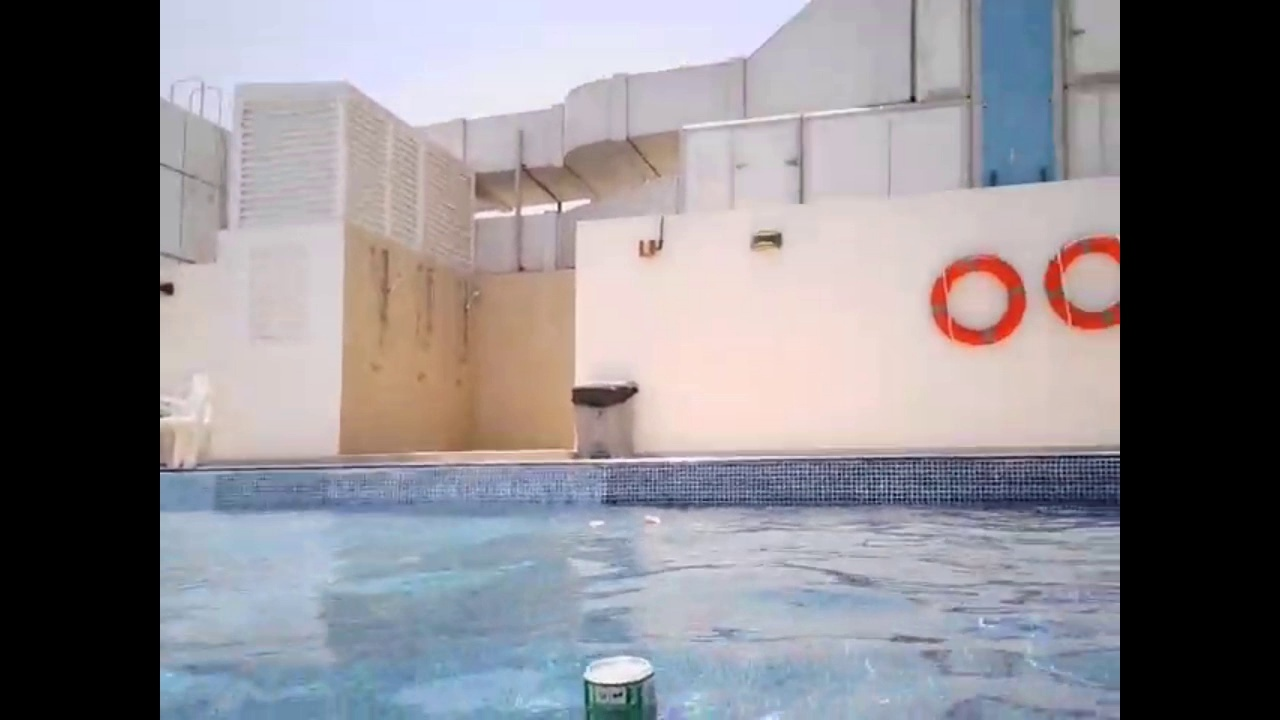debris: (577, 650, 659, 720), (582, 514, 609, 532), (638, 511, 662, 527)
